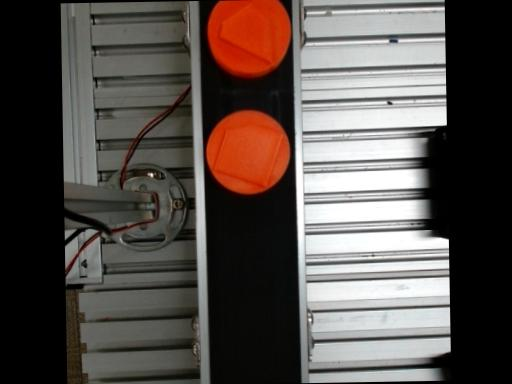Not_Square: (213, 123, 285, 186), (220, 2, 273, 64)
Orange_Waper: (206, 109, 290, 193), (207, 0, 291, 77)
